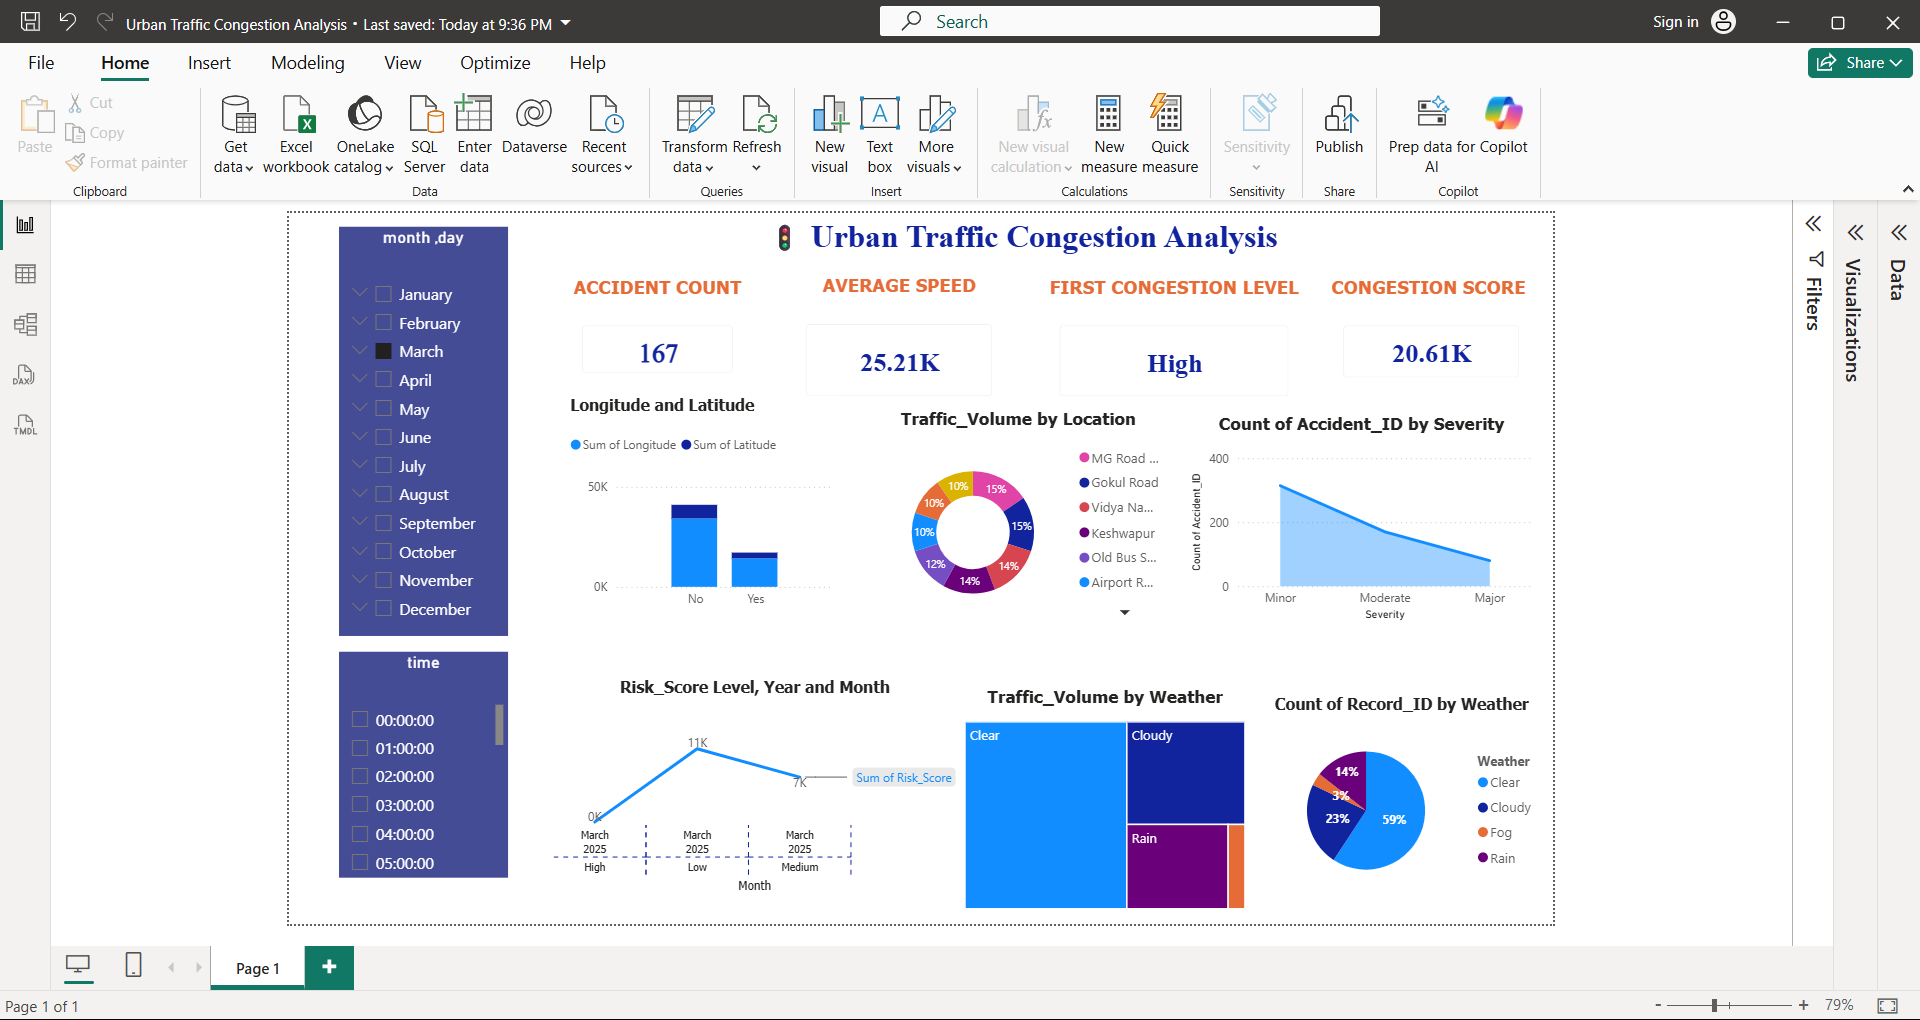

The dashboard page shown, as its layout file describes it:
{"tool":"powerbi","page":{"name":"Page 1","canvas":[1280,720],"ordinal":0},"visuals":[{"type":"textbox","box":[388.9,0,714.1,63.6],"z":0},{"type":"cardVisual","title":"ACCIDENT COUNT","fields":{"Data":["Sum(Traffic_Data.Accident_Count)"]},"box":[280,63.6,187.1,116.2],"z":2000},{"type":"cardVisual","title":"FIRST CONGESTION LEVEL","fields":{"Data":["Min(Traffic_Data.Congestion_Level)"]},"box":[763,63.6,266.6,139.4],"z":3000},{"type":"cardVisual","title":"CONGESTION SCORE","fields":{"Data":["Sum(Traffic_Data.Congestion_Score)"]},"box":[1050.4,63.6,212.8,121.1],"z":4000},{"type":"cardVisual","title":"AVERAGE SPEED","fields":{"Data":["Sum(Traffic_Data.Average_Speed_kmph)"]},"box":[506.3,62.4,223.8,140.6],"z":5000},{"type":"columnChart","title":" Longitude and Latitude ","fields":{"Category":["Traffic_Data.Is_Weekend"],"Y":["Sum(Traffic_Data.Longitude)","Sum(Traffic_Data.Latitude)"]},"box":[280,184.6,277.6,233.6],"z":6000},{"type":"lineChart","title":" Risk_Score Level, Year and Month","fields":{"Category":["Traffic_Data.Risk_Level","Traffic_Data.Date.Variation.Date Hierarchy.Year","Traffic_Data.Date.Variation.Date Hierarchy.Month"],"Y":["Sum(Traffic_Data.Risk_Score)"]},"box":[262.9,469.6,417,223.8],"z":7000},{"type":"donutChart","title":"Traffic_Volume by Location","fields":{"Category":["Traffic_Data.Location"],"Y":["Sum(Traffic_Data.Traffic_Volume)"]},"box":[580.8,198.1,315.5,220.1],"z":8000},{"type":"slicer","title":"month ,day","fields":{"Values":["Traffic_Data.Date.Variation.Date Hierarchy.Month","Traffic_Data.Day"]},"box":[50.1,13.5,171.2,414.5],"z":10000},{"type":"pieChart","fields":{"Y":["CountNonNull(Traffic_Data.Record_ID)"],"Series":["Traffic_Data.Weather"]},"box":[973.4,487.9,306.9,205.4],"z":11000},{"type":"treemap","title":"Traffic_Volume by Weather","fields":{"Group":["Traffic_Data.Weather"],"Values":["Sum(Traffic_Data.Traffic_Volume)"]},"box":[679.9,478.1,293.5,231.1],"z":12000},{"type":"areaChart","fields":{"Y":["CountNonNull(Accident_Data.Accident_ID)"],"Category":["Accident_Data.Severity"]},"box":[908.6,203,354.6,215.2],"z":13000},{"type":"slicer","title":"time","fields":{"Values":["Accident_Data.Time"]},"box":[50.1,443.9,171.2,228.7],"z":13001},{"type":"pythonVisual","fields":{"Values":["Sum(Traffic_Data.Risk_Score)","Traffic_Data.Date.Variation.Date Hierarchy.Year","Traffic_Data.Date.Variation.Date Hierarchy.Quarter","Traffic_Data.Date.Variation.Date Hierarchy.Month","Traffic_Data.Date.Variation.Date Hierarchy.Day"]},"box":[100,100,300,300],"z":13002}]}

Visuals, with their boxes on the page's 1280x720 design canvas (x1, y1, x2, y2). These are canvas units, not pixel positions in the 1920x1020 screenshot, which may show the page scaled, cropped or inside an application window:
textbox: box=[389, 0, 1103, 64]
"ACCIDENT COUNT" cardVisual: box=[280, 64, 467, 180]
"FIRST CONGESTION LEVEL" cardVisual: box=[763, 64, 1030, 203]
"CONGESTION SCORE" cardVisual: box=[1050, 64, 1263, 185]
"AVERAGE SPEED" cardVisual: box=[506, 62, 730, 203]
" Longitude and Latitude " columnChart: box=[280, 185, 558, 418]
" Risk_Score Level, Year and Month" lineChart: box=[263, 470, 680, 693]
"Traffic_Volume by Location" donutChart: box=[581, 198, 896, 418]
"month ,day" slicer: box=[50, 14, 221, 428]
pieChart - CountNonNull(Traffic_Data.Record_ID) x Traffic_Data.Weather: box=[973, 488, 1280, 693]
"Traffic_Volume by Weather" treemap: box=[680, 478, 973, 709]
areaChart - CountNonNull(Accident_Data.Accident_ID) x Accident_Data.Severity: box=[909, 203, 1263, 418]
"time" slicer: box=[50, 444, 221, 673]
pythonVisual - Sum(Traffic_Data.Risk_Score) x Traffic_Data.Date.Variation.Date Hierarchy.Year: box=[100, 100, 400, 400]
